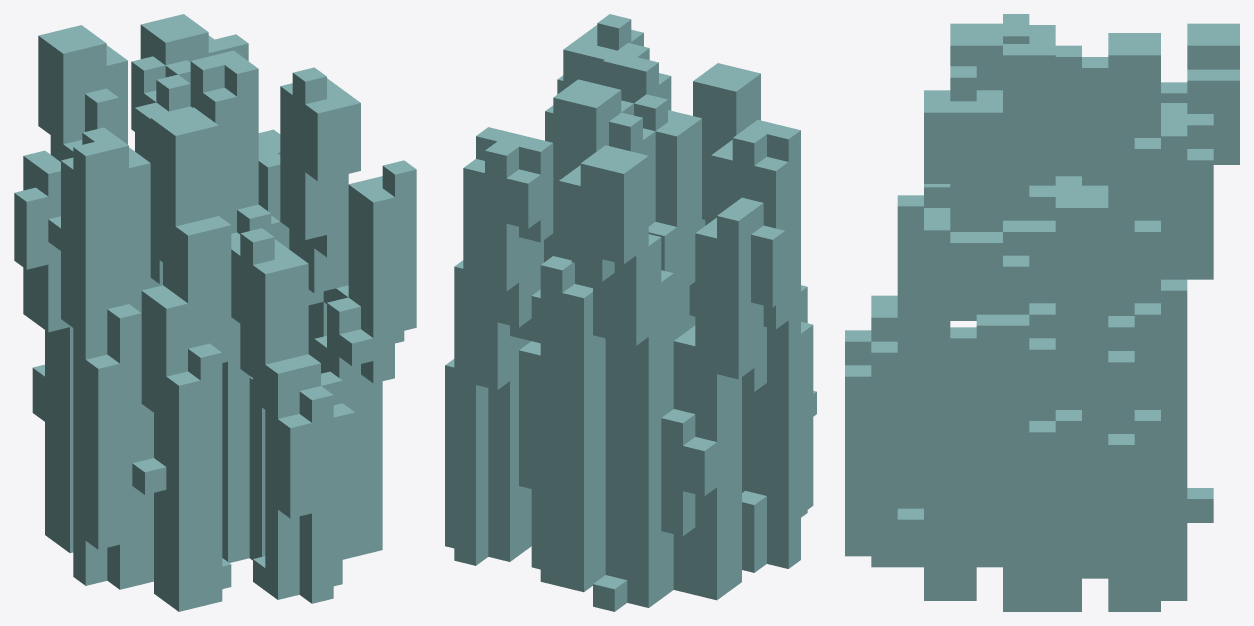
Rendered from SmallCoral1.fbx.
The picture shows the model from 3 angles, left to right: view 1: azimuth 30°, elevation 25°; view 2: azimuth 150°, elevation 25°; view 3: azimuth 270°, elevation 25°; orthographic projection. The views are drawn at different scales.
Visible parts, largest first — view 1: Cube.110; view 2: Cube.110; view 3: Cube.110.
Boxes of the visible parts, bbox=[...] form: Cube.110: bbox=[14, 14, 416, 611]; Cube.110: bbox=[445, 14, 816, 611]; Cube.110: bbox=[845, 14, 1239, 611].
Bounding box in the file's own units: 49.62 × 69.46 × 49.62.
